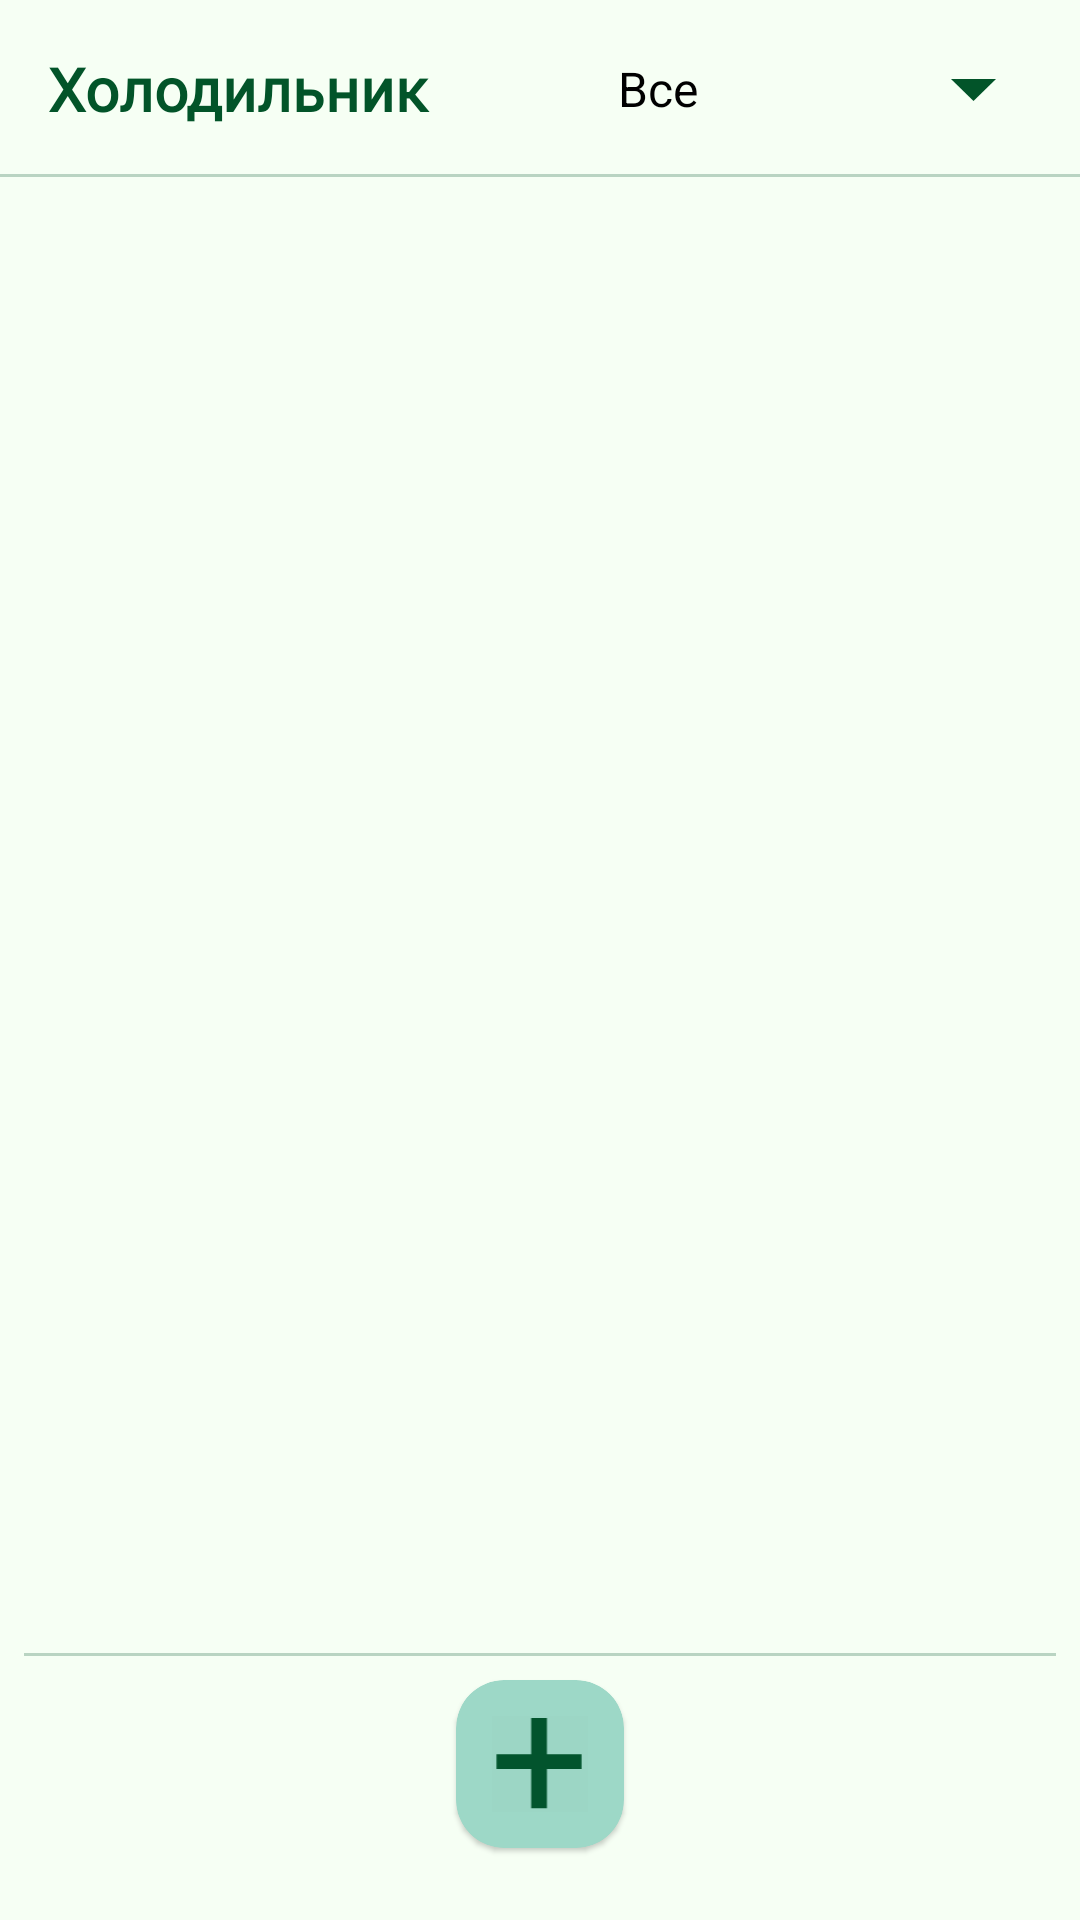

Screen size 1080*1920. Icon name, then its box in pixels as (x1=x1, y1=y1, x2=x2, y2=y2):
add: (x1=496, y1=1718, x2=582, y2=1809)
